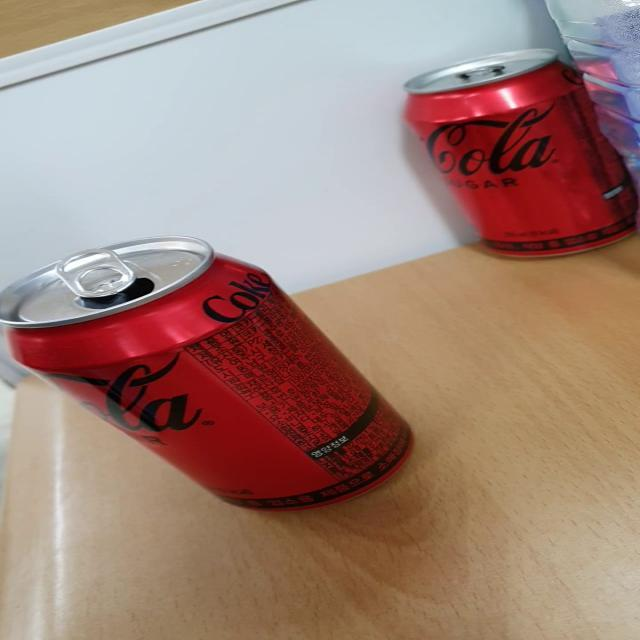coca-cola: (2, 232, 442, 516), (396, 45, 640, 264)
